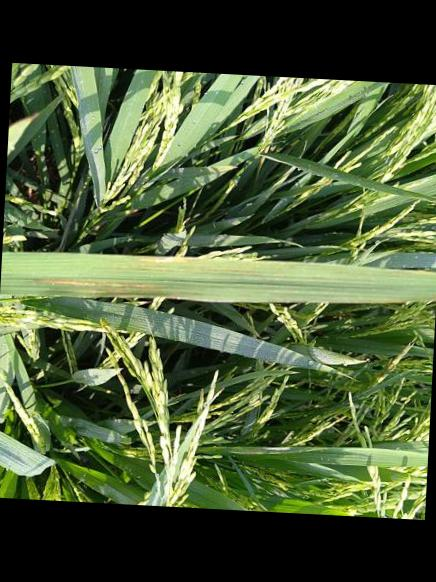Leaf Streak: (30, 278, 162, 299), (120, 255, 196, 266)
